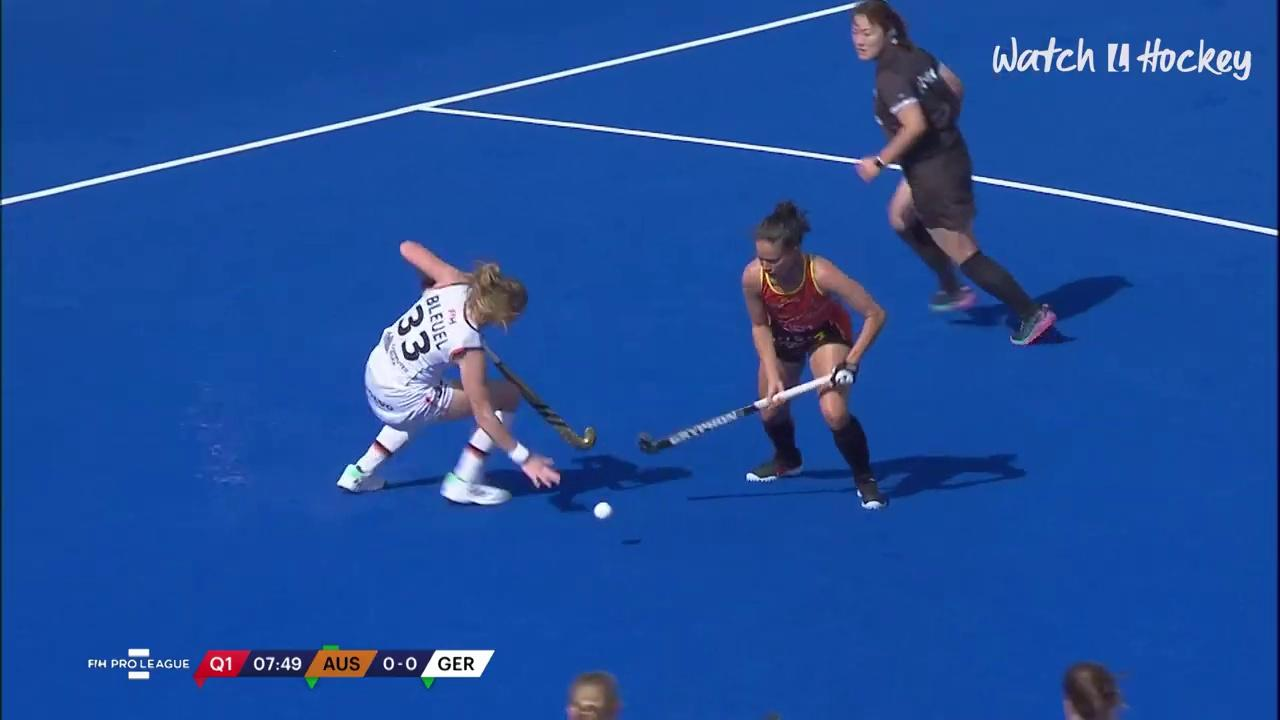ball: (585, 495, 627, 529)
